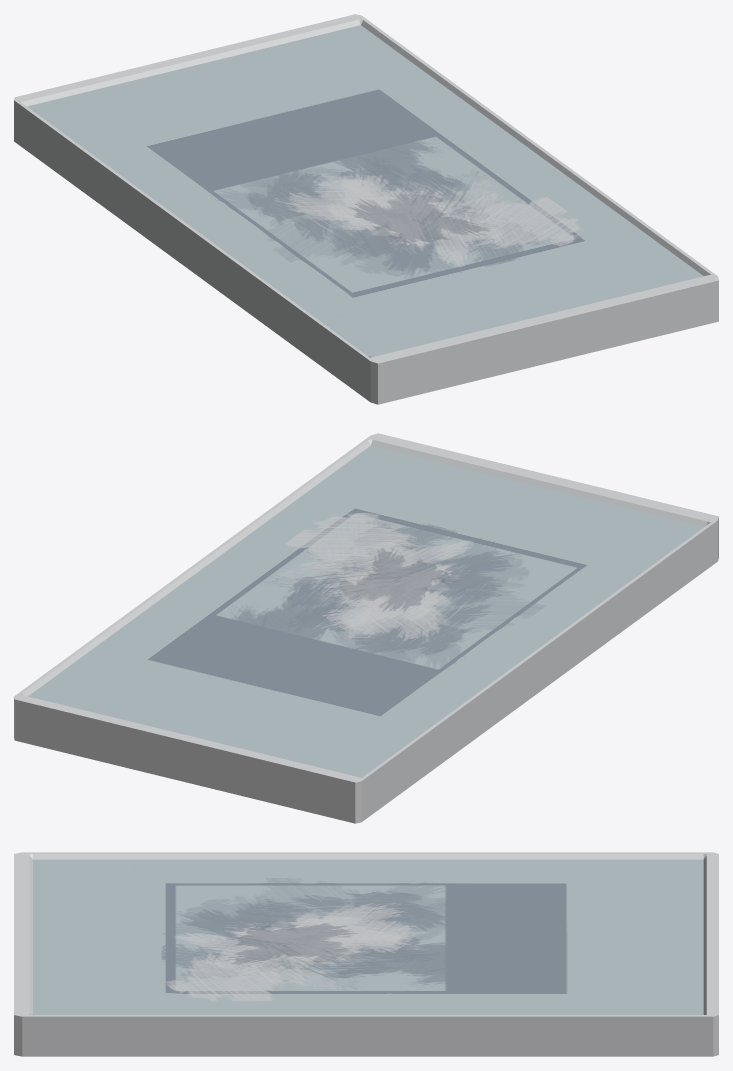
File: Phone.fbx
3 renders of one model, top to bottom at view 1: azimuth 30°, elevation 25°; view 2: azimuth 150°, elevation 25°; view 3: azimuth 270°, elevation 25°, orthographic. The views are drawn at different scales.
Parts seen in each view (by area): view 1: Cube; view 2: Cube; view 3: Cube.
Boxes of the visible parts, x1,y1,x2,y2 form: Cube: (14,14,718,404); Cube: (14,433,718,823); Cube: (14,852,718,1056).
Bounding box in the file's own units: 230 × 27.29 × 416.
Materials: 1 (1 with a texture image).
